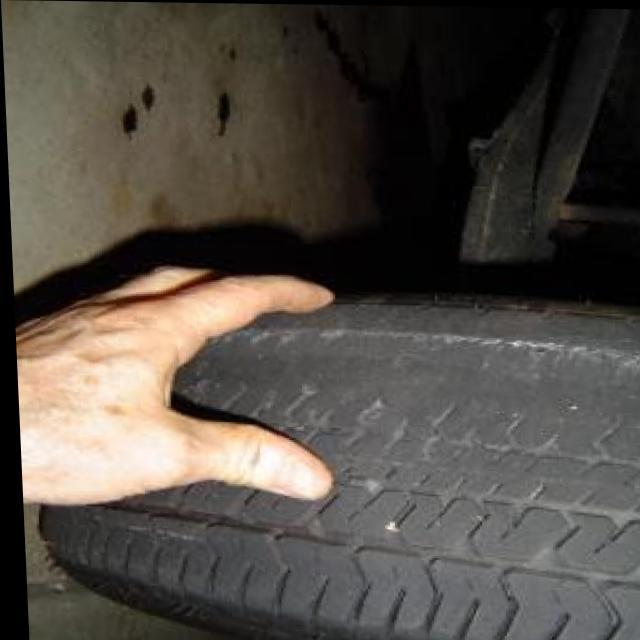Flat spots: (222, 336, 632, 425), (338, 428, 640, 522)
